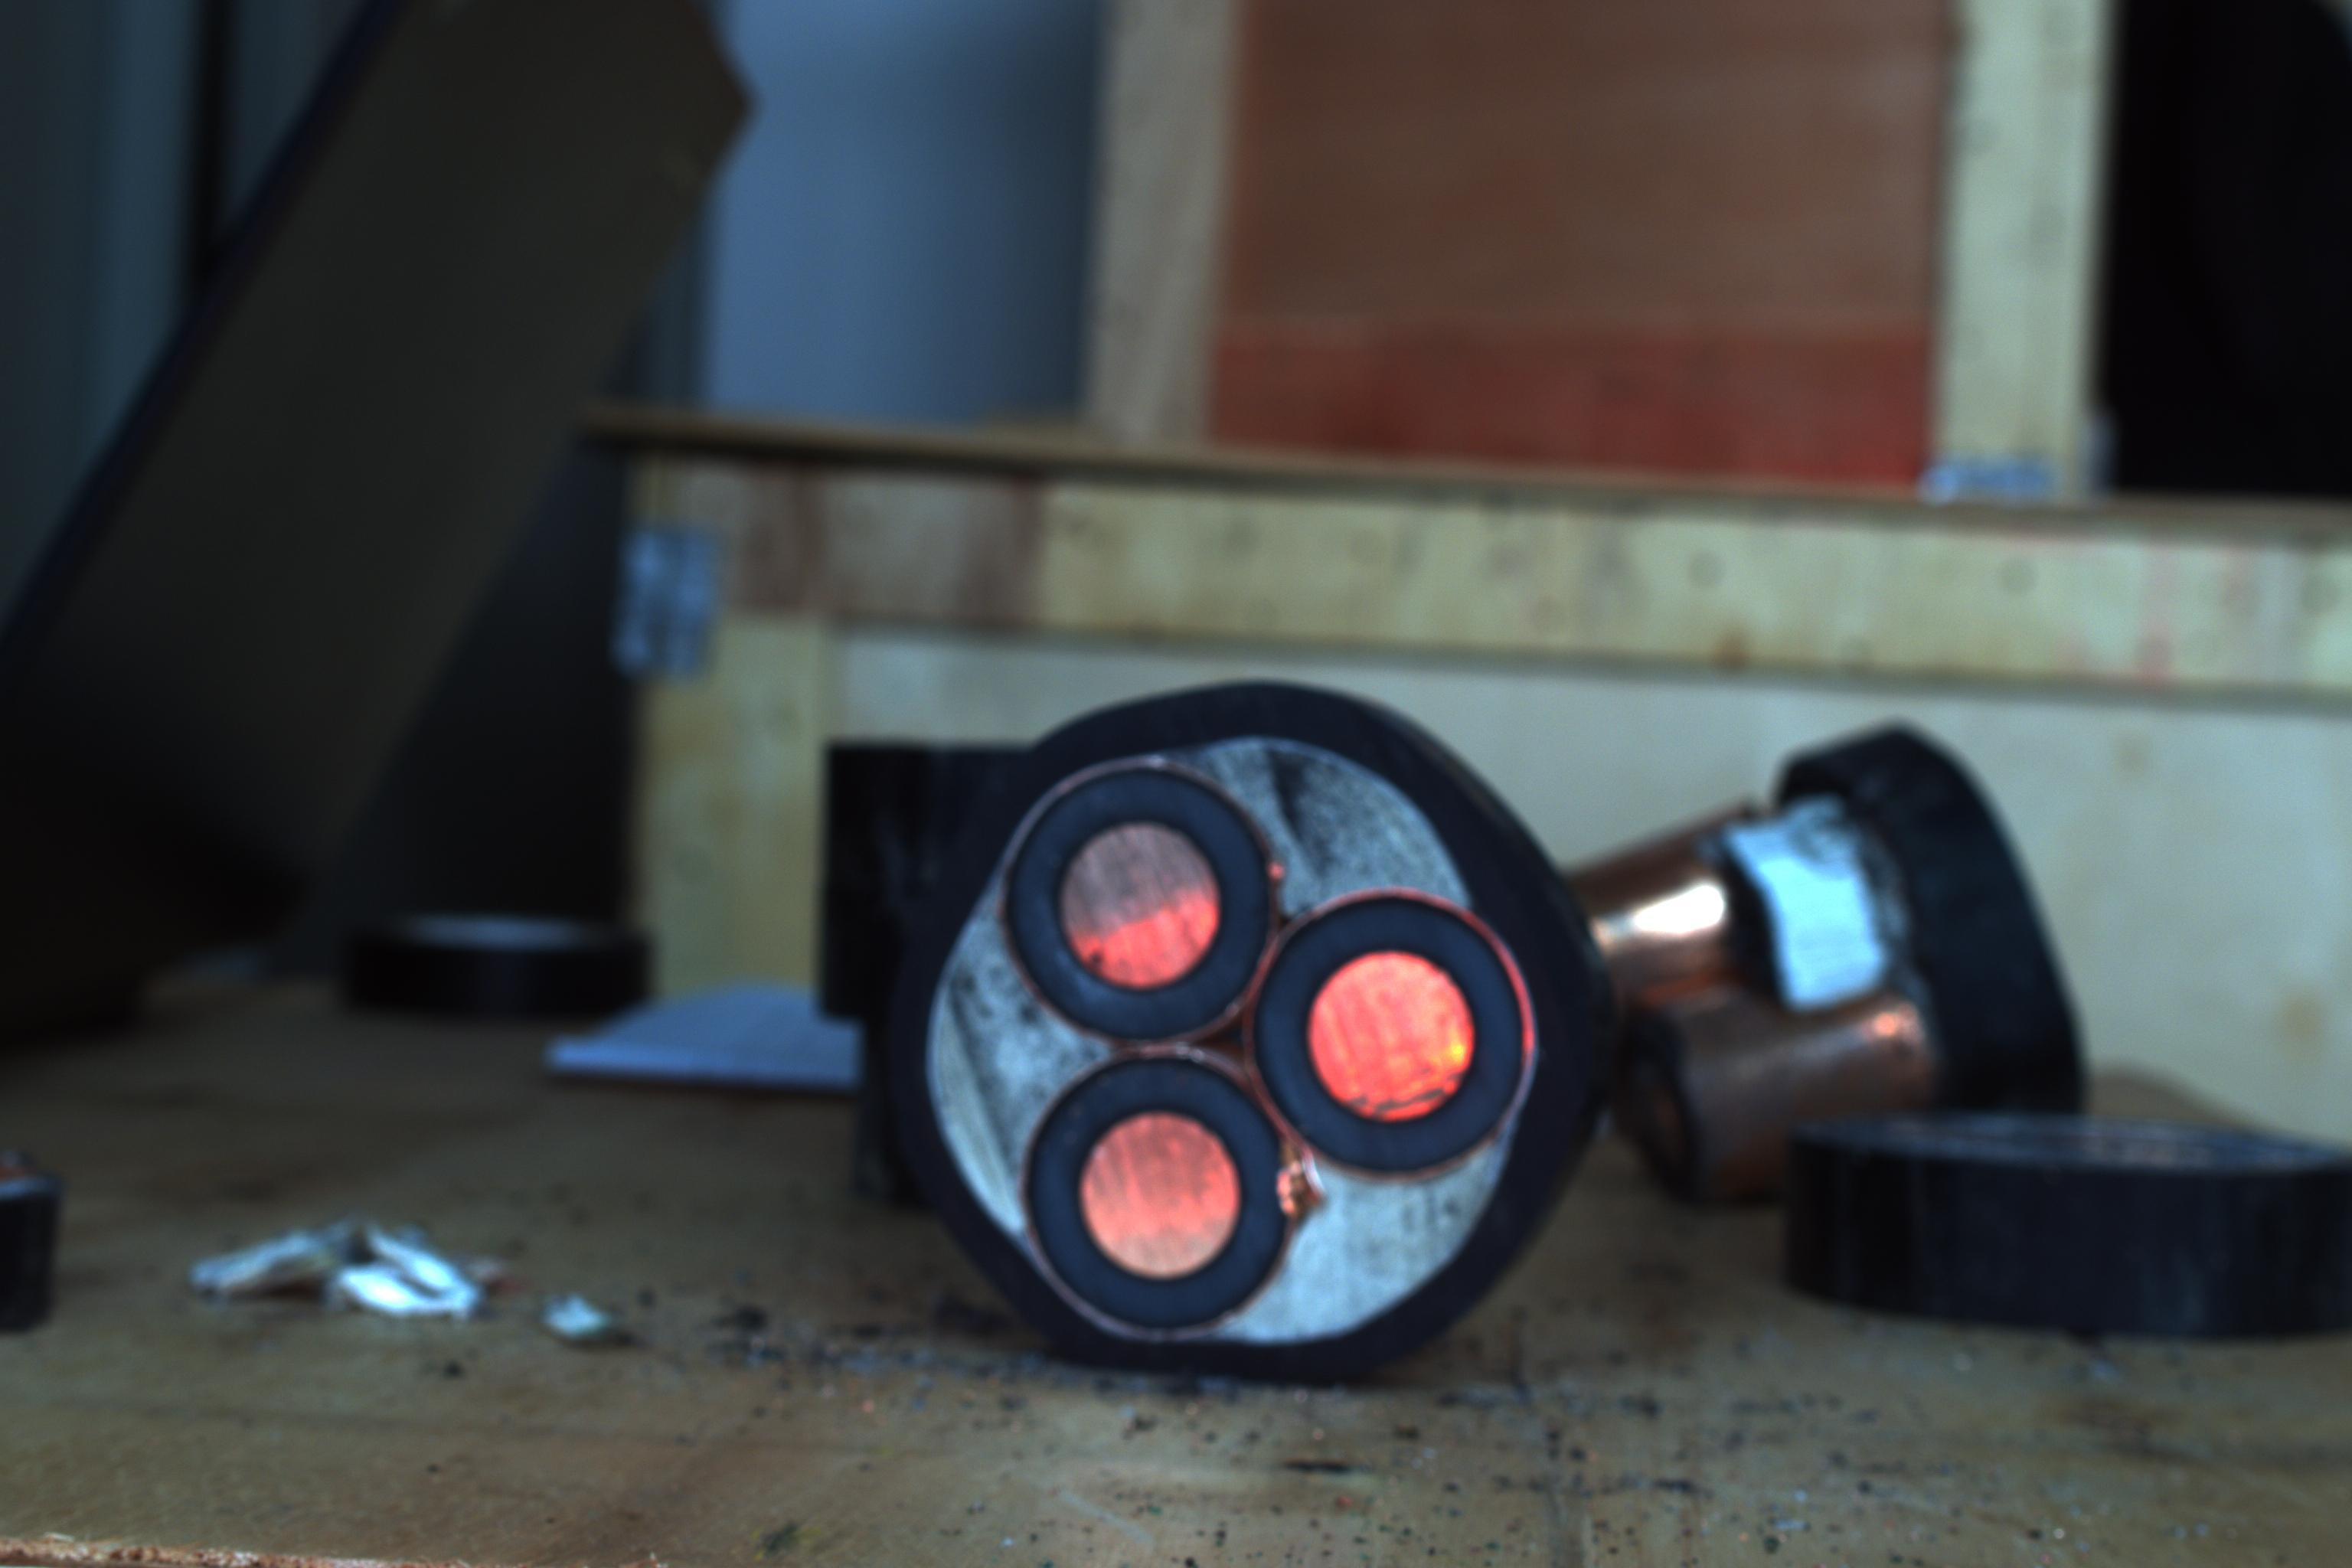ZA_YJV_8.7_10kV_3x240: (898, 719, 1566, 1358)
